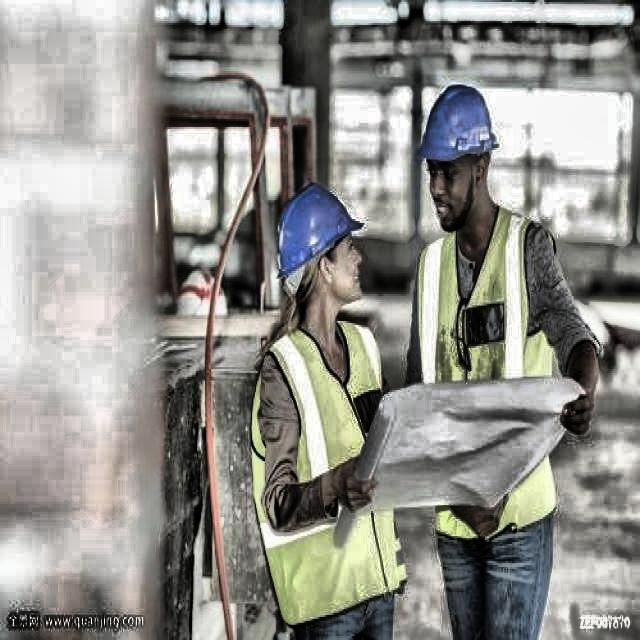person: (403, 71, 566, 629), (248, 175, 406, 638)
